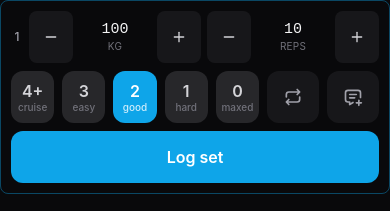
Test: Unit Preference Integration › SetLoggerRow Component › tapping the value swaps to a direct-entry input
This screenshot has width=390, height=211.
Click the button with aria-label "Weight: 100 kg". click: [115, 37]
box: [75,11,155,63]
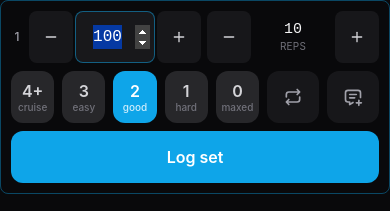
Replace the text in the number field named "Weight" with "105". click: [115, 37]
box: [75,11,155,63]
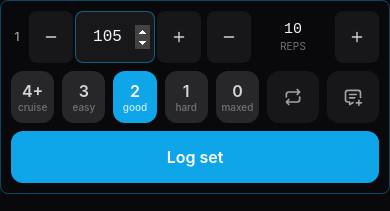
Leave the number field named "Weight", box [75,11,155,63]
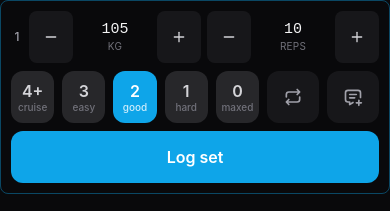
Result: the button with aria-label "Weight: 105 kg" is shown at [75,11,155,63]
